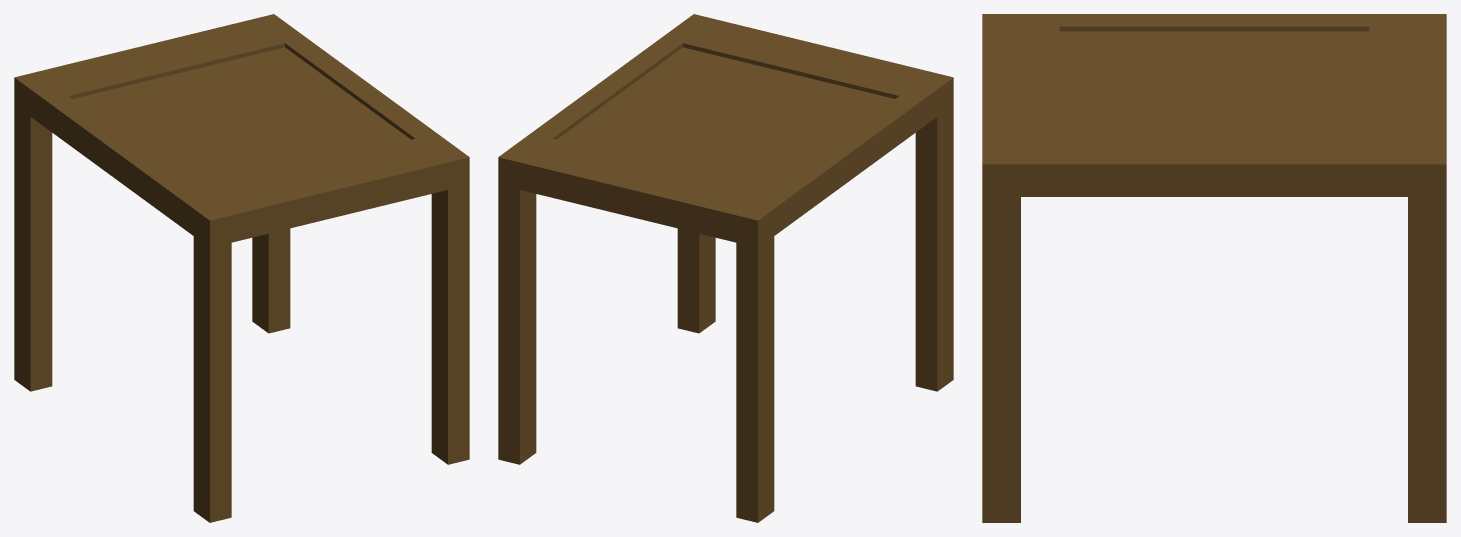
Rendered from Table.fbx.
3 views of the same model, side by side, from view 1: azimuth 30°, elevation 25°; view 2: azimuth 150°, elevation 25°; view 3: azimuth 270°, elevation 25° (orthographic). The views are drawn at different scales.
Visible parts, largest first — view 1: pCube1; view 2: pCube1; view 3: pCube1.
Part boxes in pixels (x1,y1,x2,y2): pCube1: (14,14,469,522); pCube1: (498,14,953,522); pCube1: (982,14,1446,522).
Size of the model in its own units: 0.2073 by 0.2305 by 0.2704.
